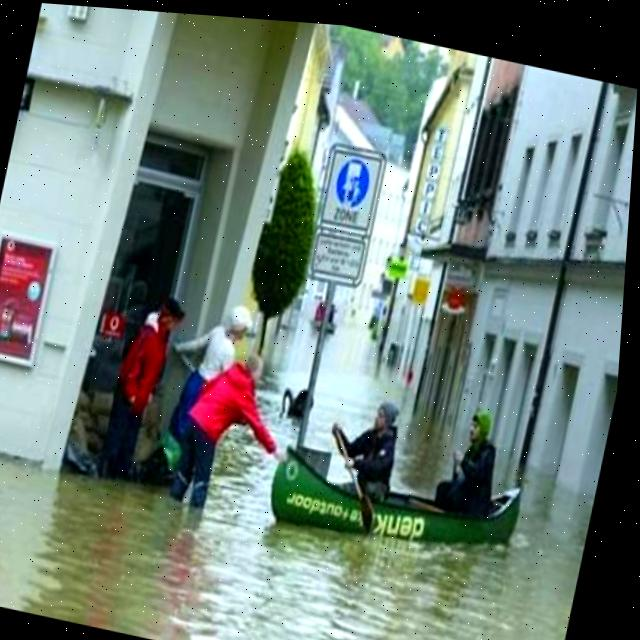civilian: (160, 340, 307, 536), (147, 282, 261, 499), (91, 282, 194, 502), (325, 391, 418, 521), (427, 395, 517, 529)
